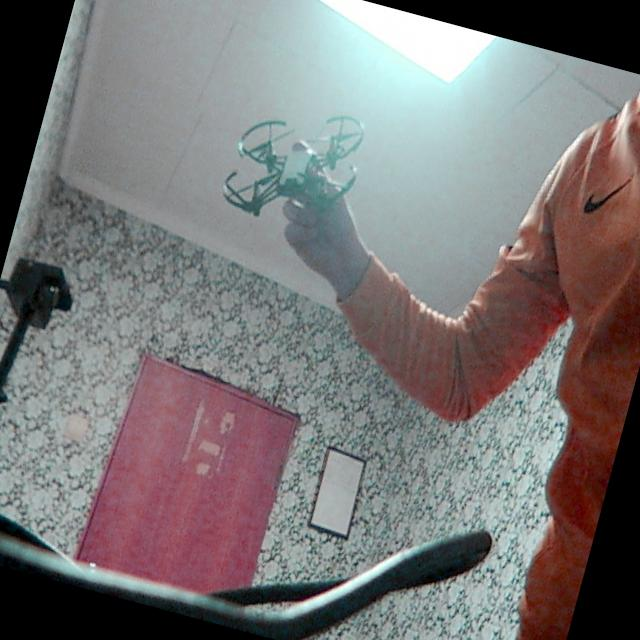drone: (204, 73, 400, 260)
